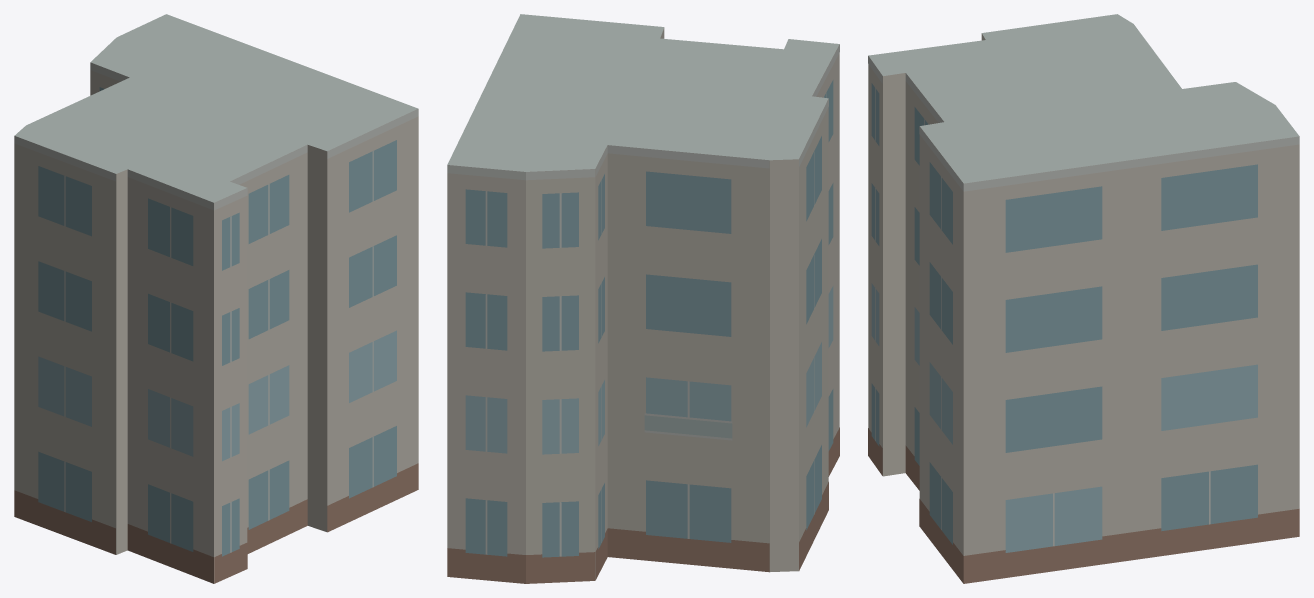
Rendered from survey-upis-32774902.glb.
3 renders of one model, left to right at view 1: azimuth 30°, elevation 25°; view 2: azimuth 150°, elevation 25°; view 3: azimuth 270°, elevation 25°, orthographic. The views are drawn at different scales.
Parts seen in each view (by area): view 1: survey-upis-32774902.tmp; view 2: survey-upis-32774902.tmp; view 3: survey-upis-32774902.tmp.
Boxes of the visible parts, box(x1,y1,x2,y2) form: survey-upis-32774902.tmp: box(14, 14, 418, 583); survey-upis-32774902.tmp: box(447, 14, 839, 583); survey-upis-32774902.tmp: box(868, 14, 1299, 583).
Bounding box in the file's own units: 11 × 12.1 × 11.83.
